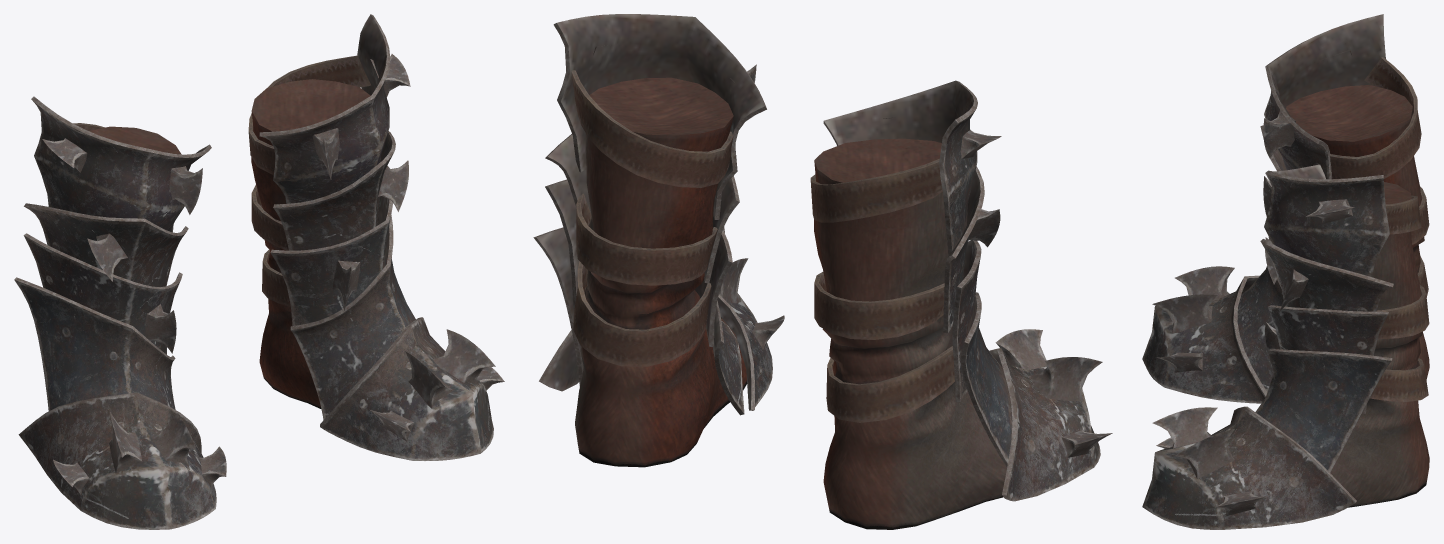
Rendered from sk_dg_uruk_boots_lord_a.fbx.
3 renders of one model, left to right at view 1: azimuth 30°, elevation 25°; view 2: azimuth 150°, elevation 25°; view 3: azimuth 270°, elevation 25°, orthographic. The views are drawn at different scales.
Parts seen in each view (by area): view 1: sk_dg_uruk_boots_lord_a.0, sk_dg_uruk_boots_lord_a.1; view 2: sk_dg_uruk_boots_lord_a.0, sk_dg_uruk_boots_lord_a.1; view 3: sk_dg_uruk_boots_lord_a.0, sk_dg_uruk_boots_lord_a.1.
Boxes of the visible parts, bbox=[...] form: sk_dg_uruk_boots_lord_a.0: bbox=[14, 14, 493, 529]; sk_dg_uruk_boots_lord_a.1: bbox=[42, 54, 504, 495]; sk_dg_uruk_boots_lord_a.0: bbox=[533, 14, 1100, 529]; sk_dg_uruk_boots_lord_a.1: bbox=[571, 44, 1112, 457]; sk_dg_uruk_boots_lord_a.0: bbox=[1142, 14, 1429, 529]; sk_dg_uruk_boots_lord_a.1: bbox=[1152, 50, 1429, 516].
Size of the model in its own units: 0.6211 by 0.3648 by 0.4808.
Materials: 2 (2 with a texture image).
